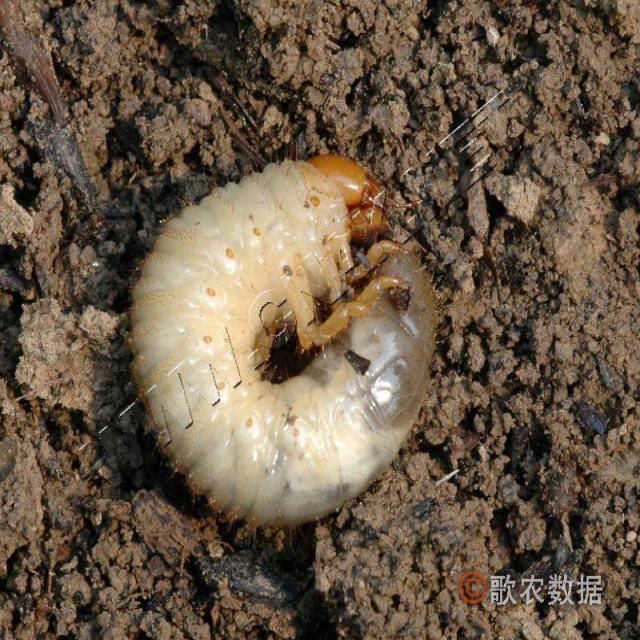Grub-Adult-: (118, 156, 444, 526)
